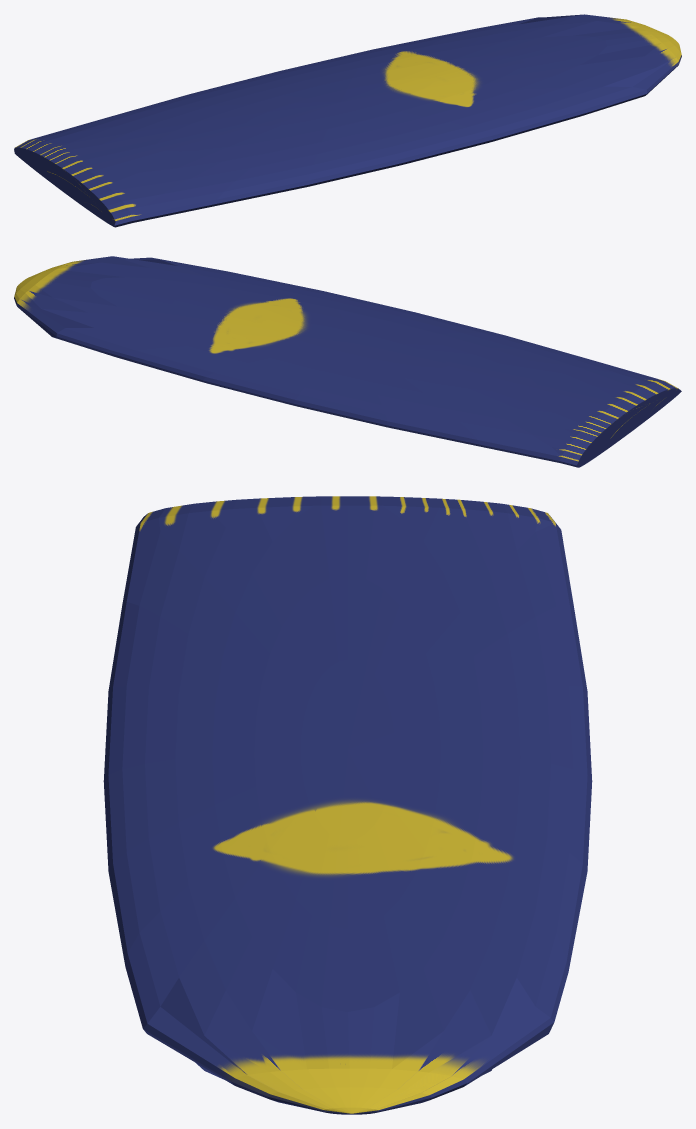
The model's file is meia.fbx.
The picture shows the model from 3 angles, top to bottom: view 1: azimuth 30°, elevation 25°; view 2: azimuth 150°, elevation 25°; view 3: azimuth 270°, elevation 25°; orthographic projection. The views are drawn at different scales.
Visible parts, largest first — view 1: Sphere; view 2: Sphere; view 3: Sphere.
Part boxes in pixels (x1,y1,x2,y2): Sphere: (14,14,681,227); Sphere: (14,256,681,467); Sphere: (103,496,592,1114).
Size of the model in its own units: 619 by 30.76 by 215.
